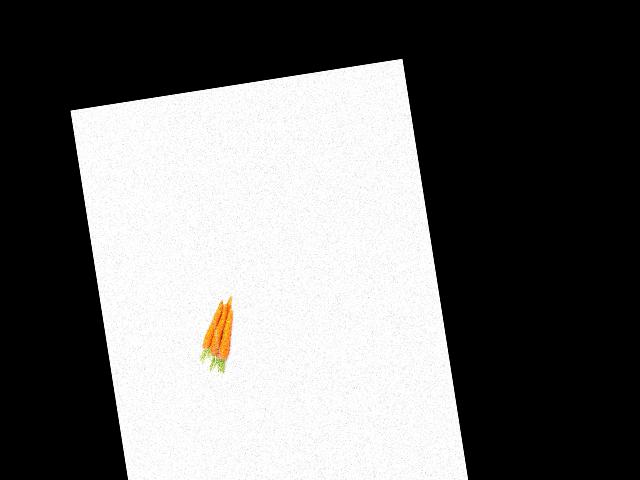carrot: (207, 303, 244, 364)
